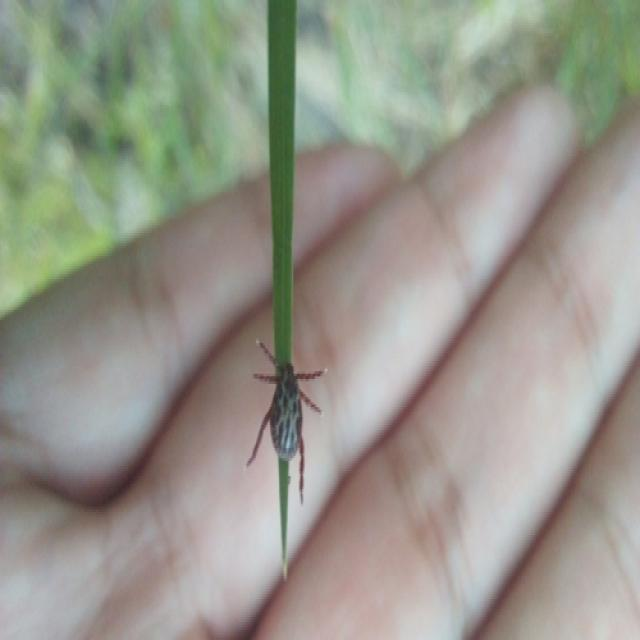Dermacentor Reticulatus-M: (247, 338, 325, 502)
